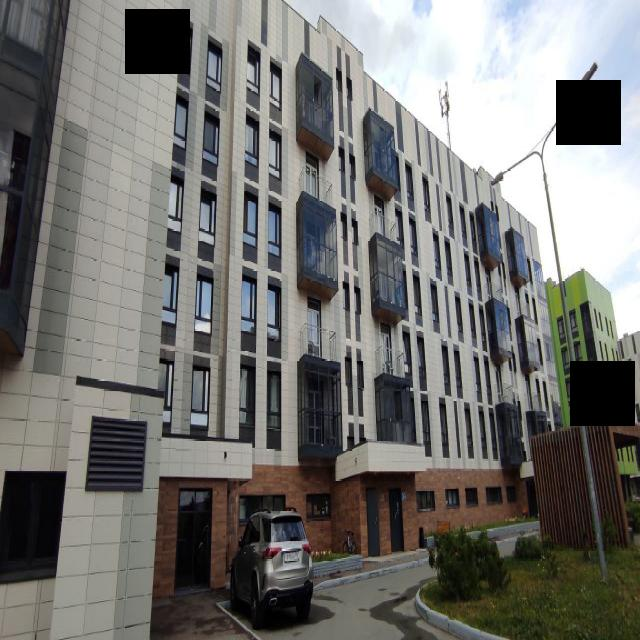Building: (0, 0, 566, 640)
